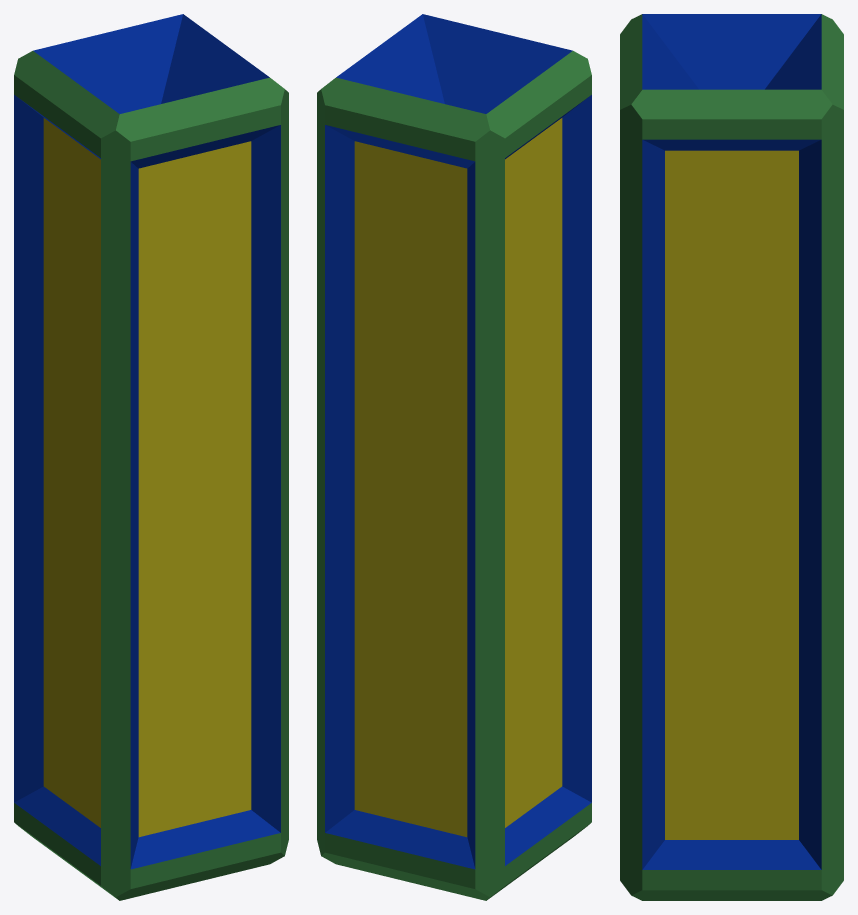
The model's file is block_1.fbx.
The picture shows the model from 3 angles, left to right: view 1: azimuth 30°, elevation 25°; view 2: azimuth 150°, elevation 25°; view 3: azimuth 270°, elevation 25°; orthographic projection. The views are drawn at different scales.
Visible parts, largest first — view 1: 3DGeom~52, 3DGeom~51, 3DGeom~53; view 2: 3DGeom~52, 3DGeom~51, 3DGeom~53; view 3: 3DGeom~52, 3DGeom~53, 3DGeom~51.
Part boxes in pixels (x1,y1,x2,y2): 3DGeom~52: [43, 118, 251, 837]; 3DGeom~51: [14, 14, 280, 869]; 3DGeom~53: [14, 51, 288, 900]; 3DGeom~52: [354, 118, 562, 837]; 3DGeom~51: [325, 14, 591, 869]; 3DGeom~53: [317, 51, 591, 900]; 3DGeom~52: [665, 150, 798, 839]; 3DGeom~53: [620, 14, 843, 900]; 3DGeom~51: [642, 14, 821, 869].
Size of the model in its own units: 0.05 by 0.05 by 0.2.
